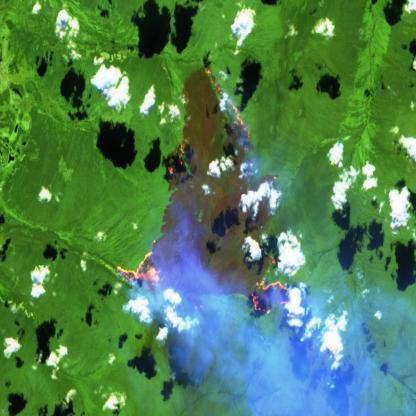fire: (107, 63, 298, 318)
